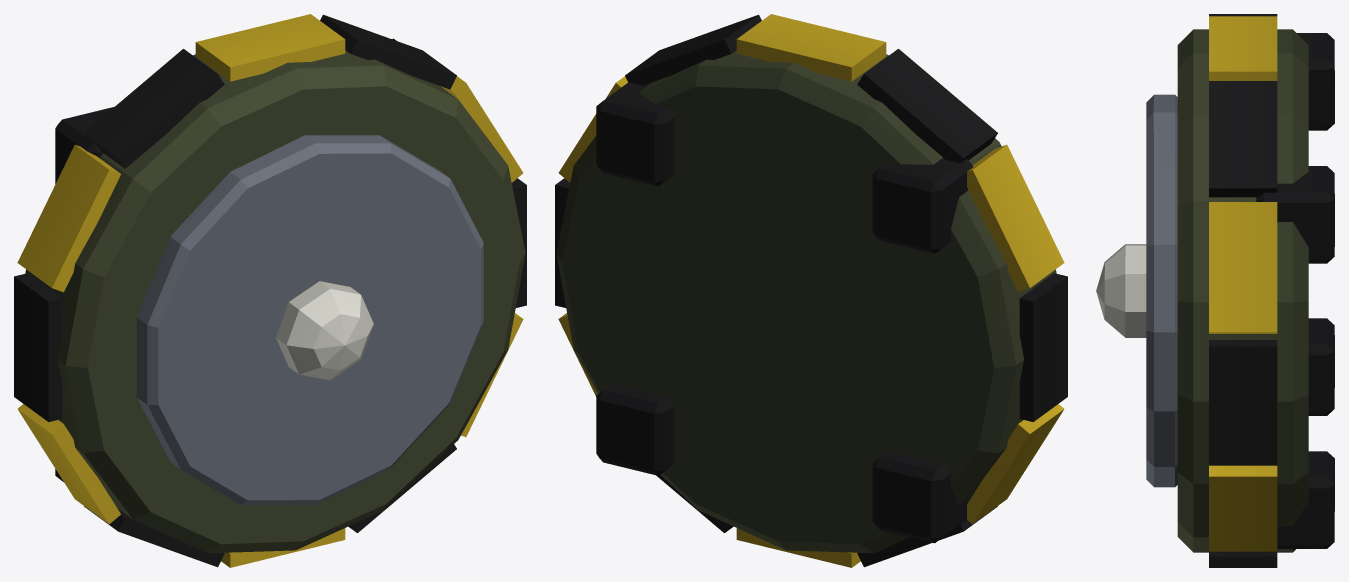
The model's file is mine.glb.
3 views of the same model, side by side, from view 1: azimuth 30°, elevation 25°; view 2: azimuth 150°, elevation 25°; view 3: azimuth 270°, elevation 25° (orthographic).
Visible parts, largest first — view 1: mine; view 2: mine; view 3: mine.
Boxes of the visible parts, left/top/right/bottom form: mine: left=14, top=14, right=526, bottom=567; mine: left=555, top=14, right=1067, bottom=567; mine: left=1096, top=14, right=1334, bottom=567.
Size of the model in its own units: 0.208 by 0.208 by 0.0912.
